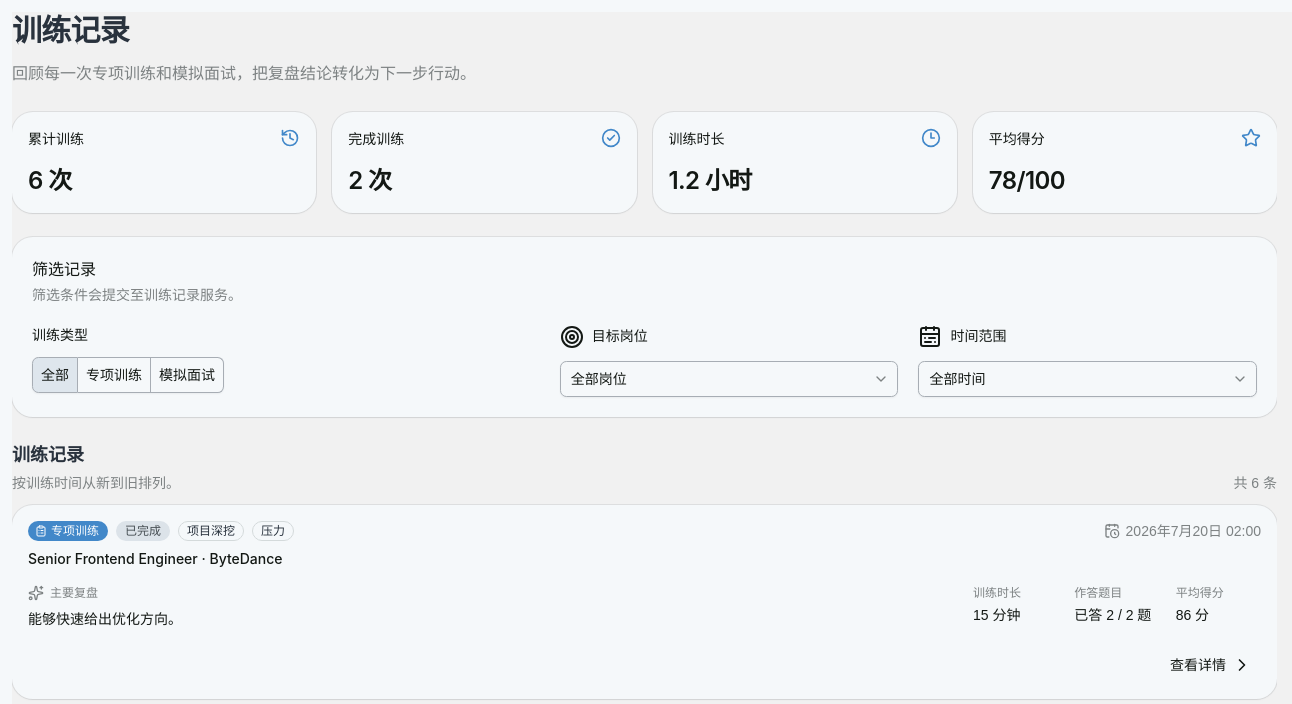
HistoryPage › submits type filters to the service and resets the server page
The width and height of the screenshot is (1292, 704).
Expected: the text "能够快速给出优化方向。" is shown, [28, 610, 182, 626]
Click the button "模拟面试" at (188, 374), box [151, 356, 224, 392]
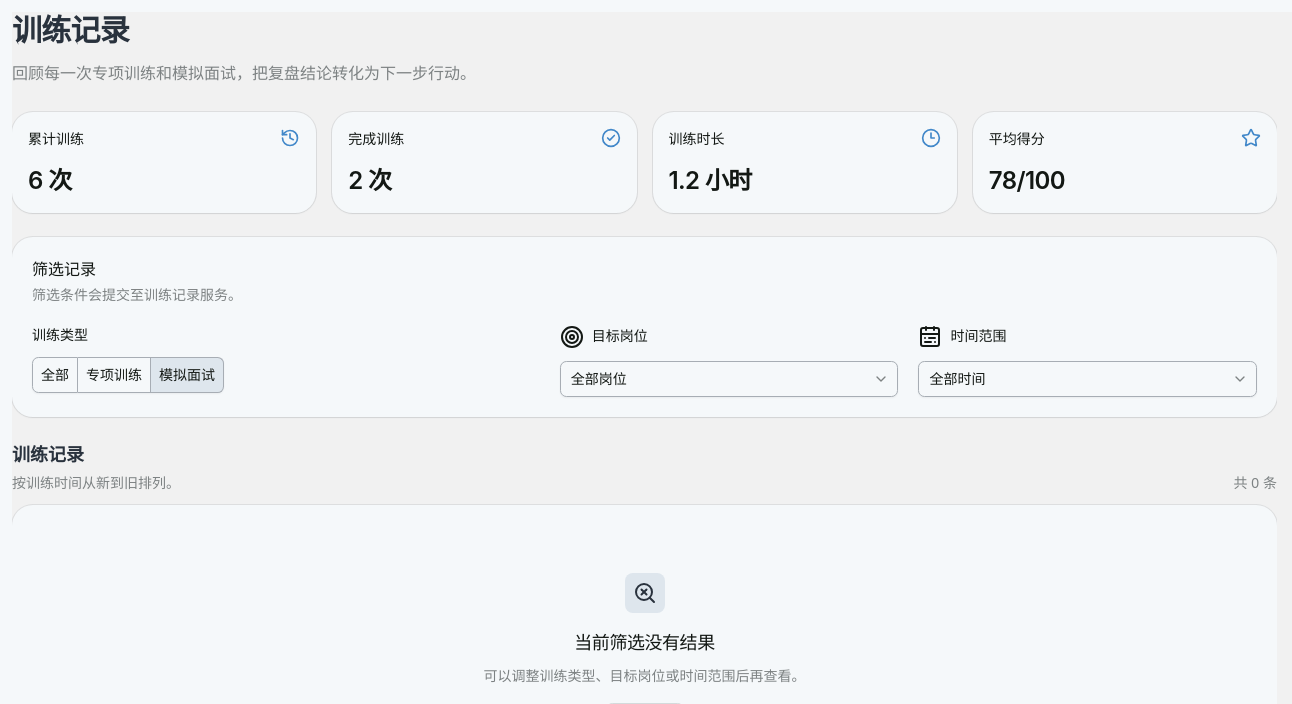
Expected: the text "当前筛选没有结果" is shown, [574, 628, 715, 656]
